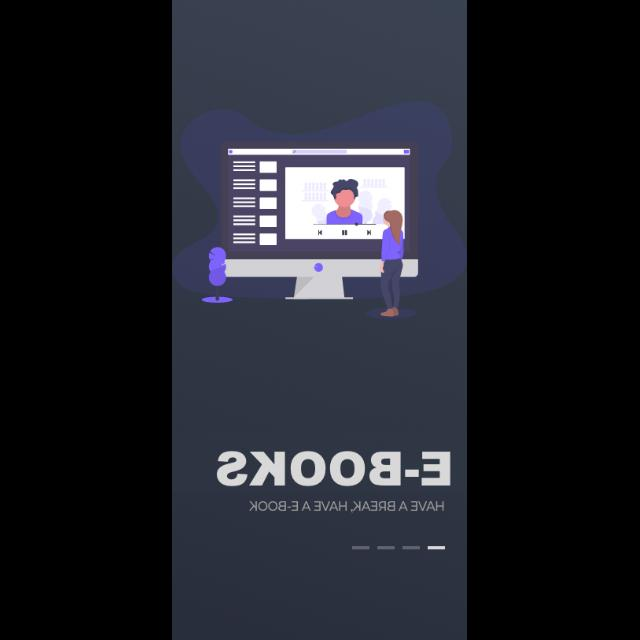image: (173, 102, 467, 318)
pageindicator: (352, 546, 446, 550)
text: (217, 450, 451, 488), (249, 501, 445, 514)
